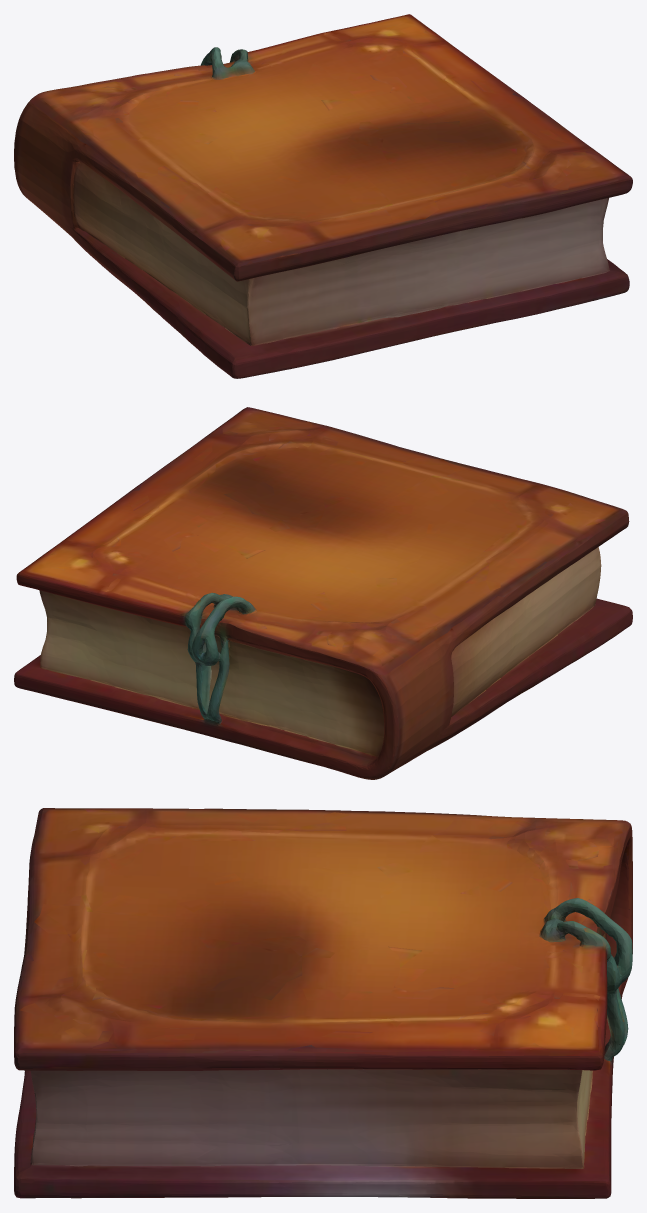
File: big_book.glb
3 views of the same model, one above another, from view 1: azimuth 30°, elevation 25°; view 2: azimuth 150°, elevation 25°; view 3: azimuth 270°, elevation 25° (orthographic). The views are drawn at different scales.
Parts seen in each view (by area): view 1: world; view 2: world; view 3: world.
Boxes of the visible parts, <box> form: world: <box>14,14,632,378</box>; world: <box>14,407,632,779</box>; world: <box>14,808,632,1198</box>.
Size of the model in its own units: 0.9622 by 0.3143 by 0.9998.
Materials: 1 (1 with a texture image).
